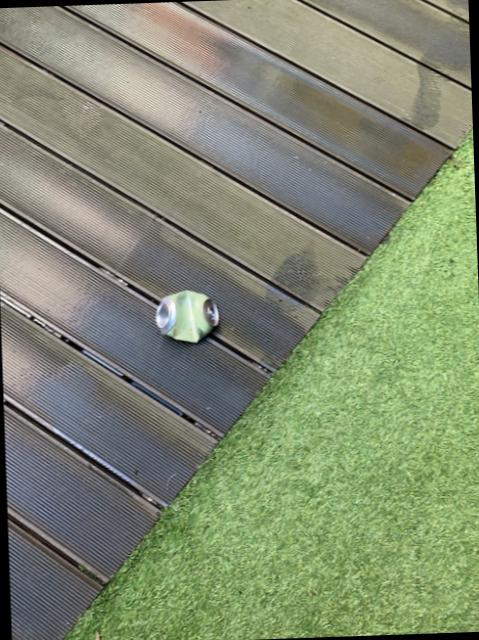metal: (156, 289, 219, 341)
